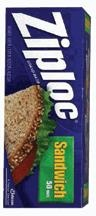grozi_28: (2, 6, 91, 207)
